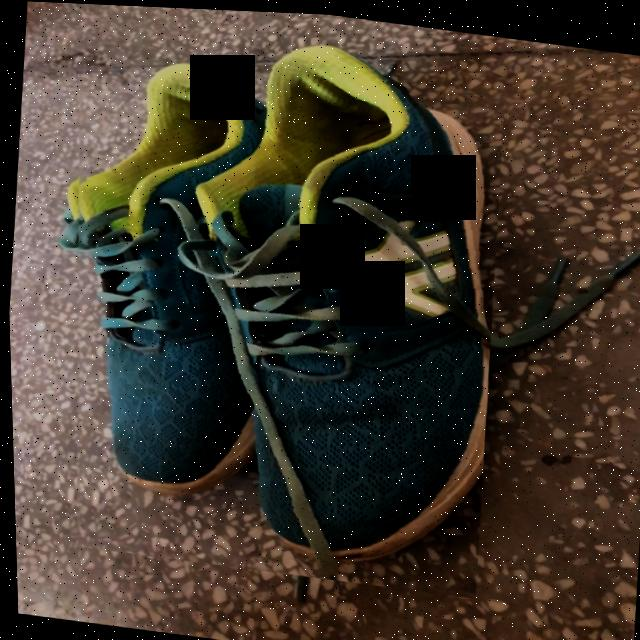shoe: (74, 43, 488, 575)
